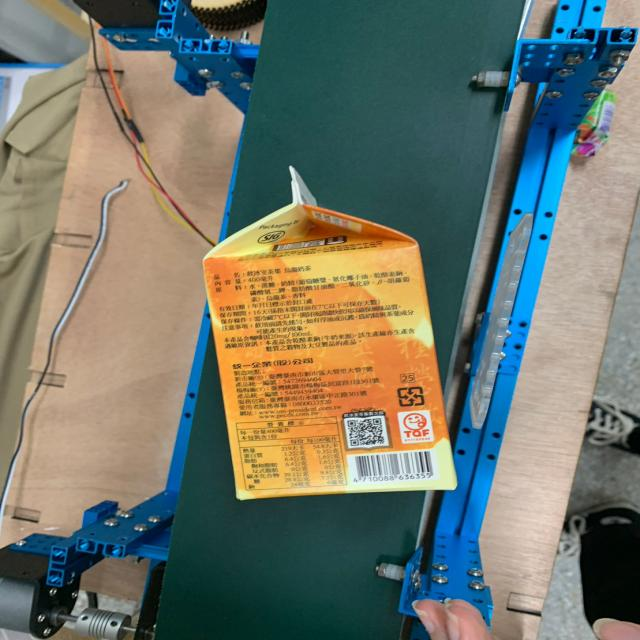non_white_jug: (175, 156, 476, 518)
